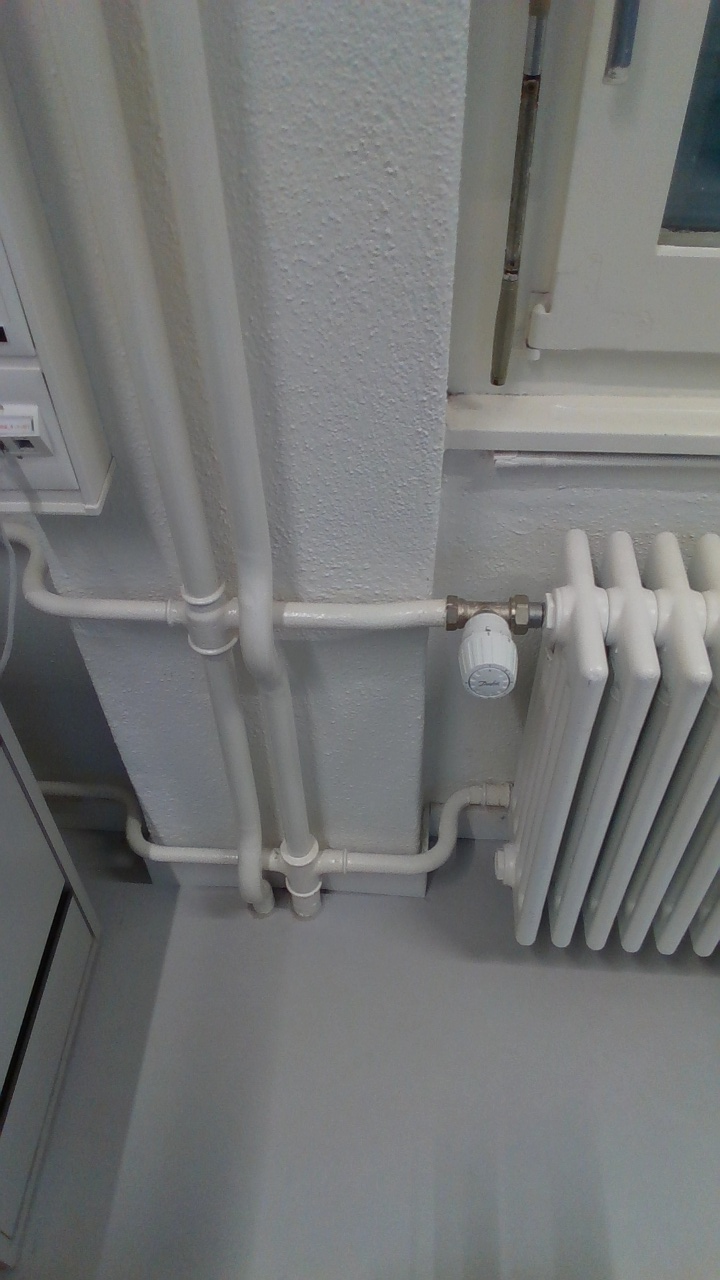Knob_Radiator: (440, 603, 527, 709)
Radiator: (490, 510, 720, 970)
